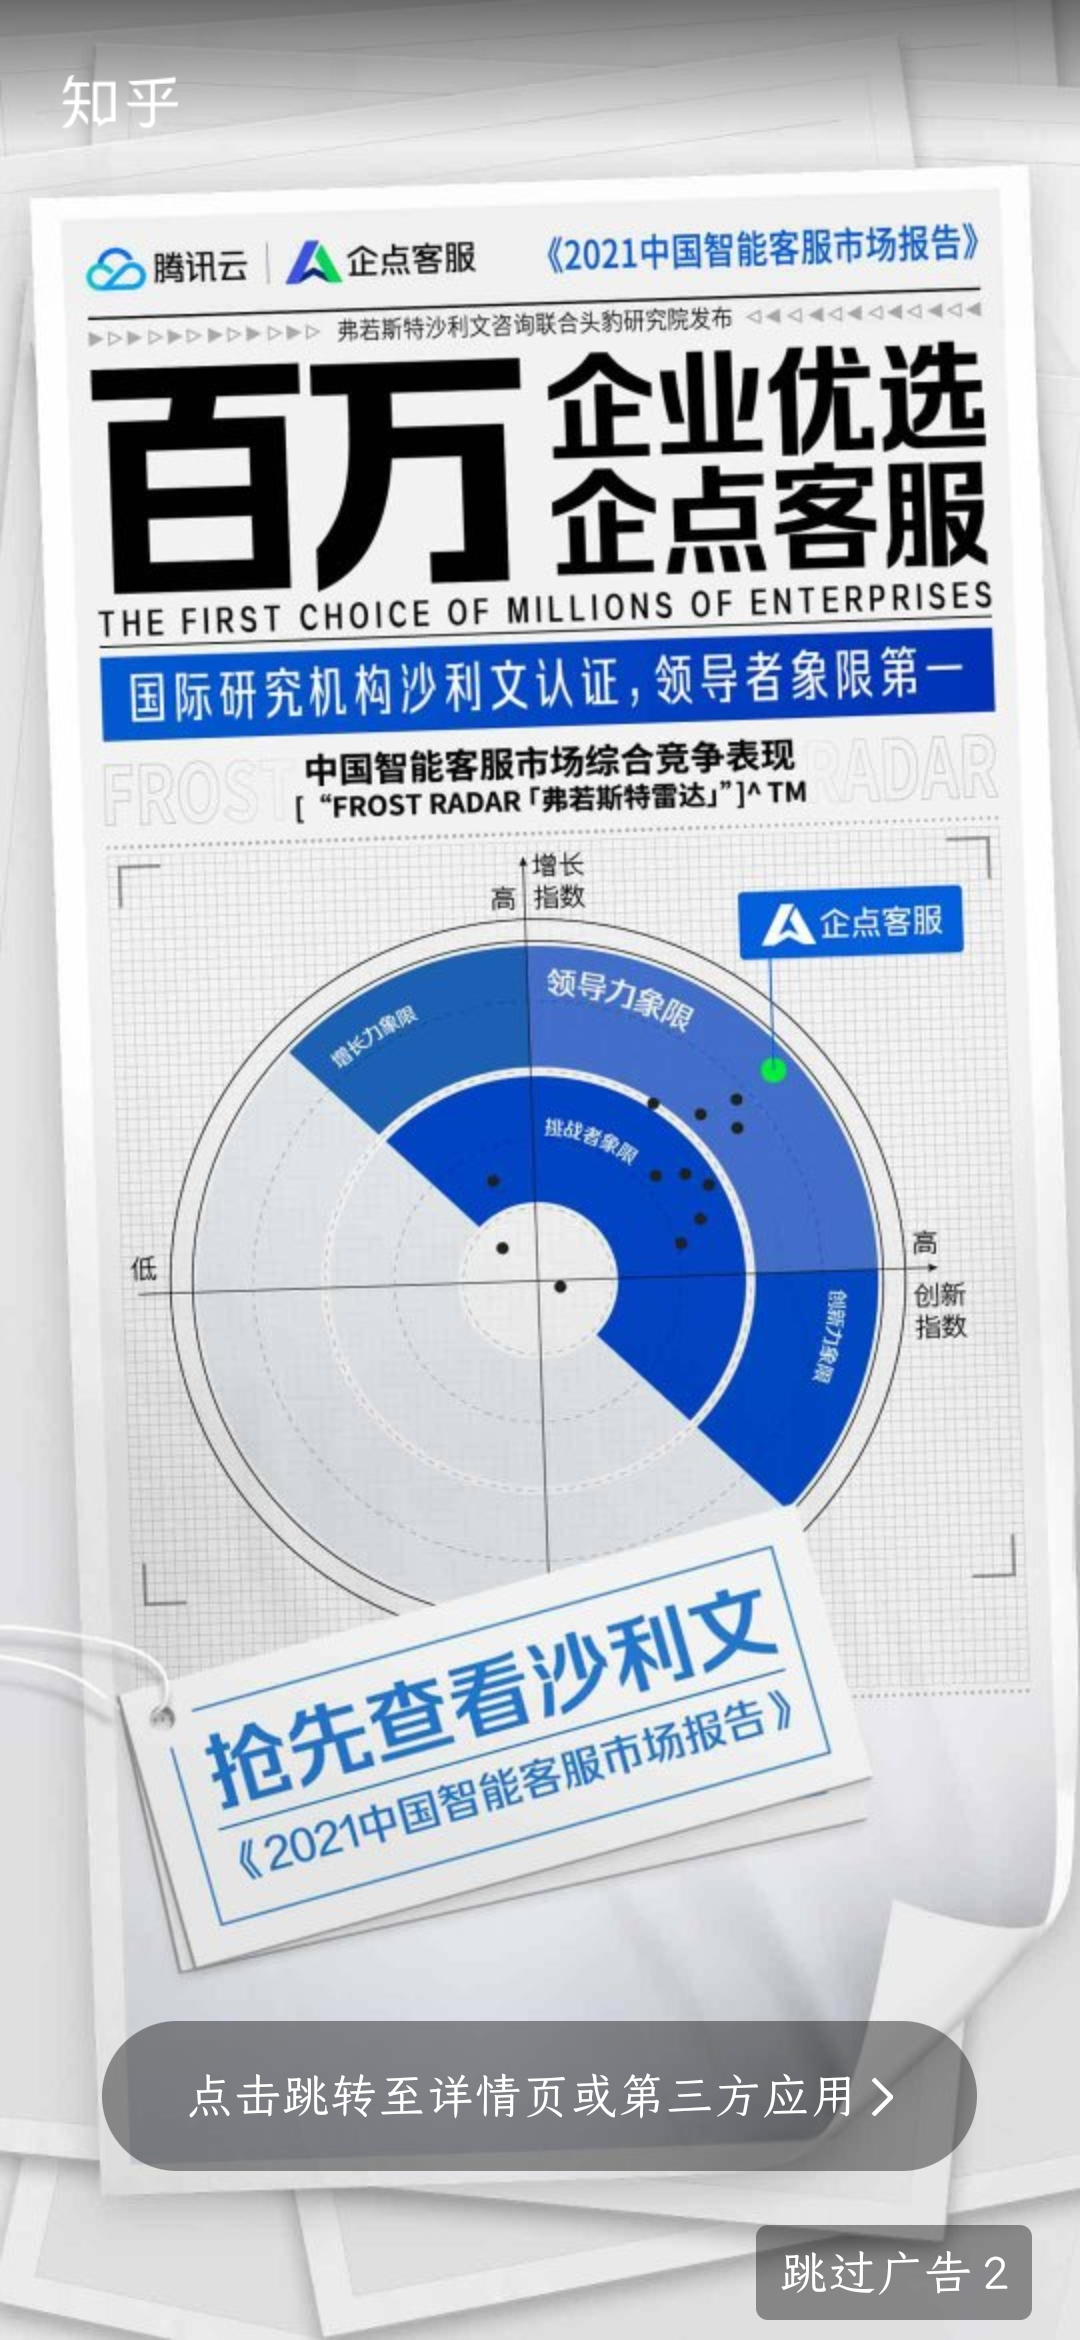skip: (755, 2224, 1038, 2321)
